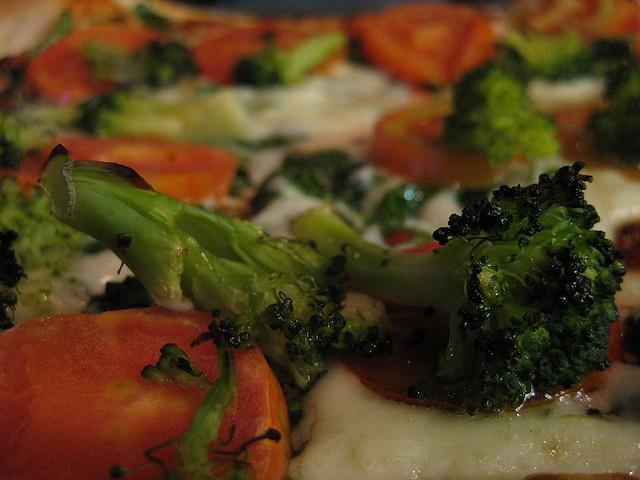broccoli: (290, 162, 630, 416), (39, 143, 350, 387), (109, 319, 282, 480), (441, 44, 562, 163), (63, 81, 256, 145), (494, 25, 640, 86), (0, 175, 87, 273), (231, 29, 347, 92), (586, 54, 640, 170), (80, 41, 201, 88), (282, 150, 368, 200), (2, 115, 56, 173), (0, 229, 28, 334), (30, 11, 74, 61), (622, 311, 640, 354)
tomato: (2, 306, 292, 480), (336, 241, 624, 412), (365, 100, 530, 190), (54, 138, 240, 206), (25, 23, 170, 107), (362, 4, 496, 86), (190, 27, 350, 85), (510, 5, 600, 38), (570, 0, 640, 41), (168, 20, 242, 50), (555, 106, 606, 142), (384, 230, 413, 246)
